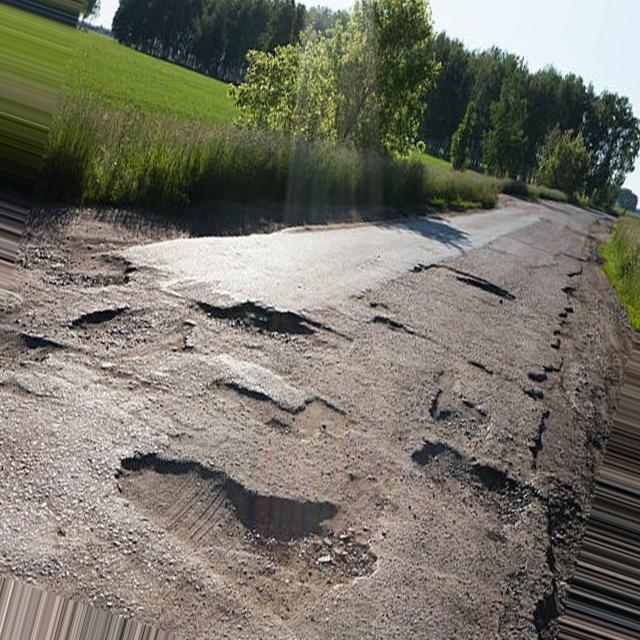Lubang: (120, 453, 369, 595), (414, 440, 524, 520), (203, 385, 362, 440), (196, 305, 333, 358), (80, 310, 192, 359)
Pinggir: (514, 255, 594, 628)
